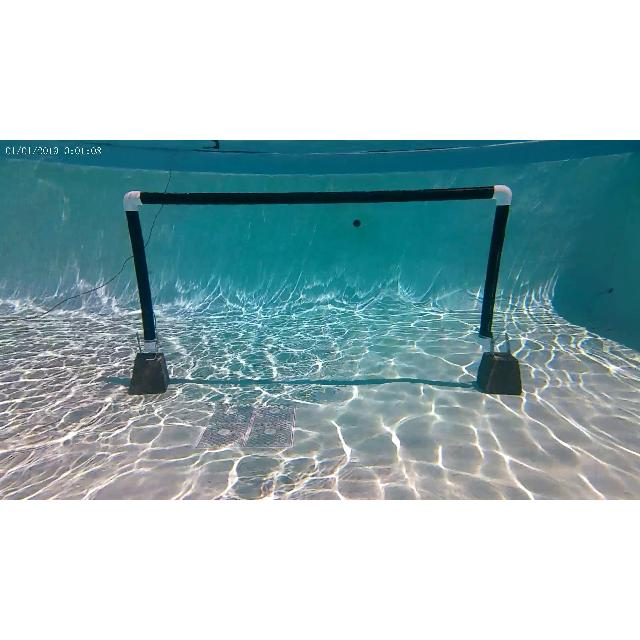prequal gate: (123, 185, 513, 349)
prequal gate leg l: (121, 186, 170, 346)
prequal gate leg r: (473, 185, 512, 347)
